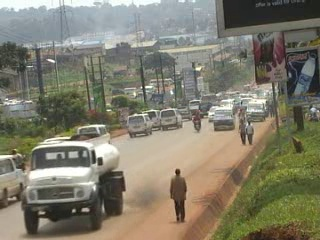Car: (217, 99, 238, 114), (206, 104, 223, 121), (178, 109, 193, 121)
Motorcycle: (11, 146, 30, 170), (190, 110, 205, 133)
